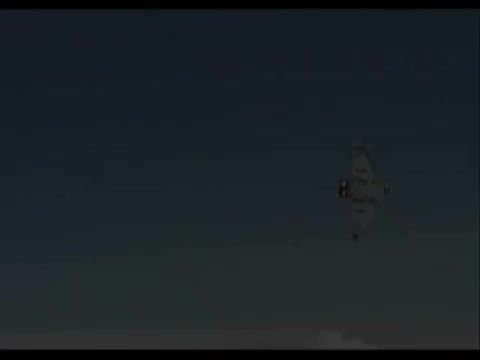aeroplane: (341, 140, 399, 247)
